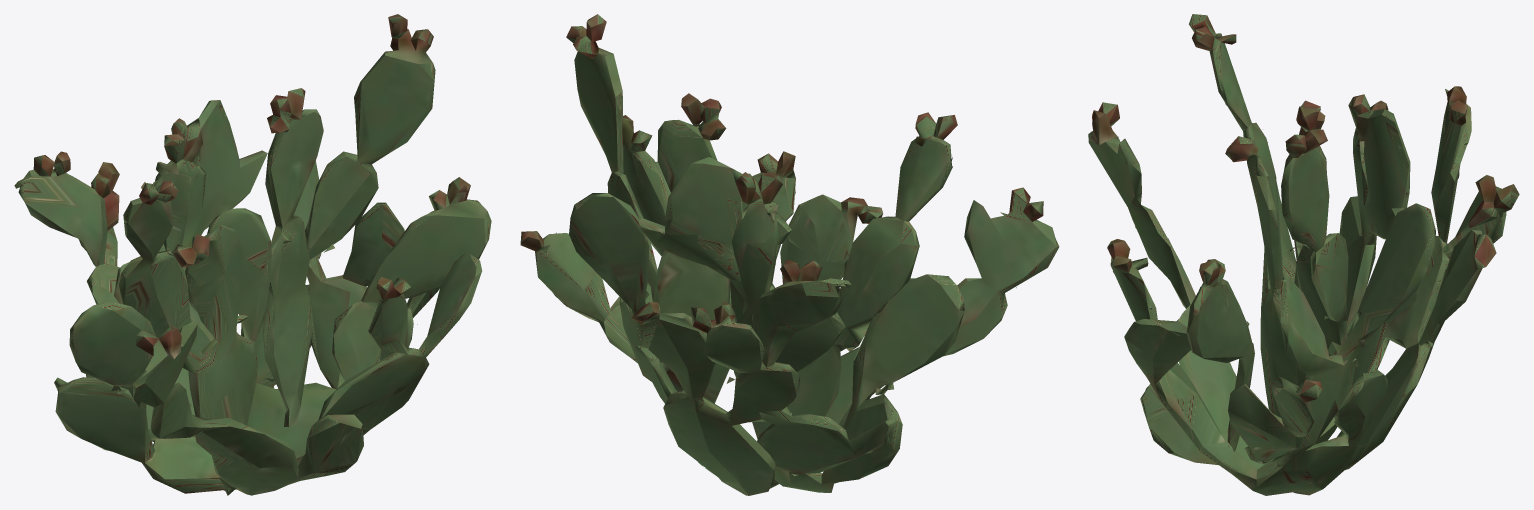
Rendered from desert-plants-prickly-pear-cactus.glb.
The picture shows the model from 3 angles, left to right: view 1: azimuth 30°, elevation 25°; view 2: azimuth 150°, elevation 25°; view 3: azimuth 270°, elevation 25°; orthographic projection. The views are drawn at different scales.
Parts seen in each view (by area): view 1: world; view 2: world; view 3: world.
Boxes of the visible parts, x1,y1,x2,y2 form: world: (14, 14, 491, 495); world: (520, 14, 1059, 495); world: (1088, 14, 1519, 495).
Bounding box in the file's own units: 0.991 × 0.9634 × 0.8018.
1 material, 1 textured.
